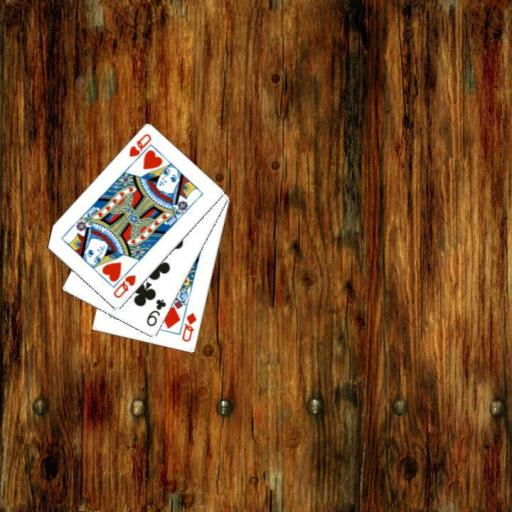9C: (143, 296, 168, 328)
QD: (179, 310, 199, 344)
QH: (126, 131, 153, 166), (110, 272, 137, 300)
